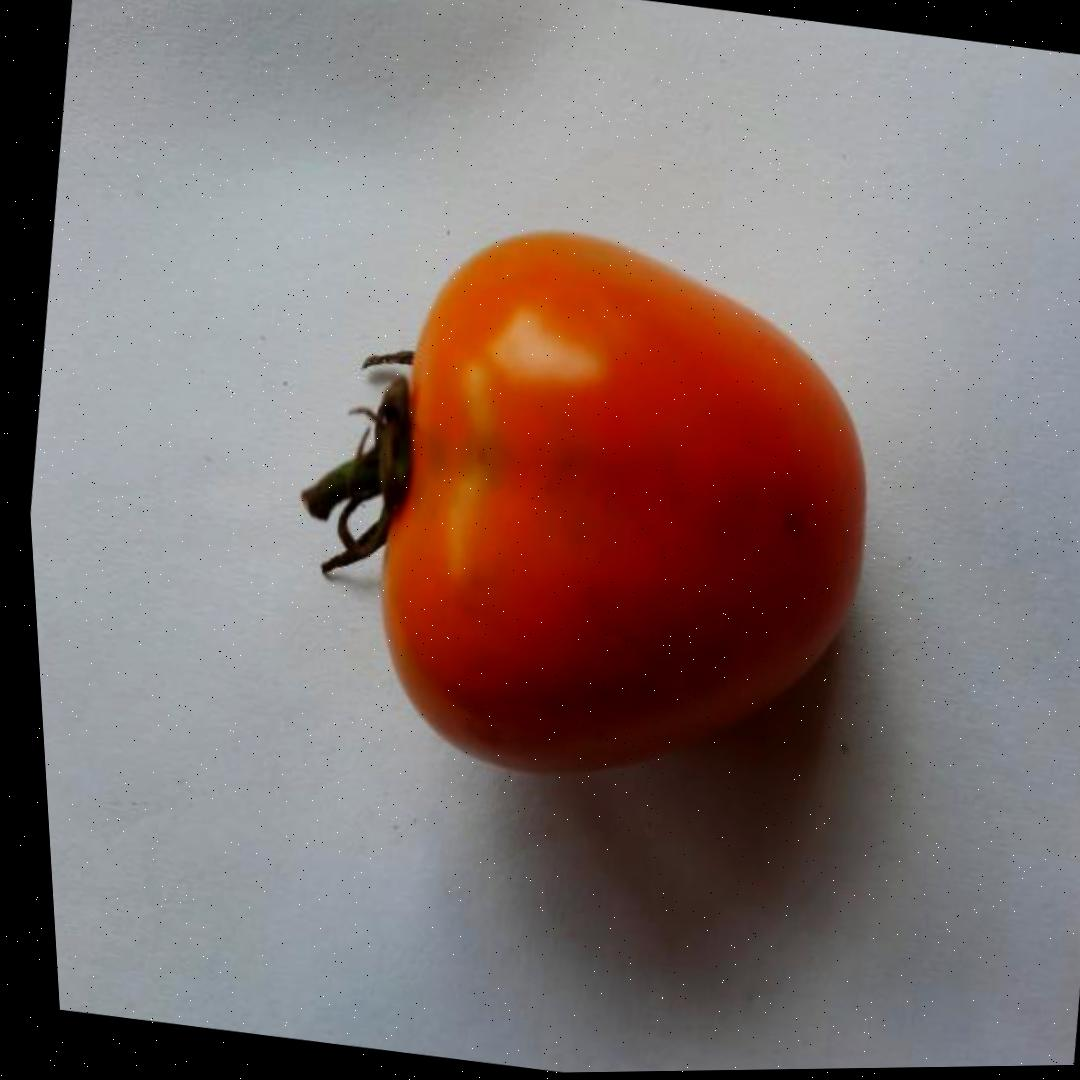setengah_matang: (331, 199, 921, 823)
